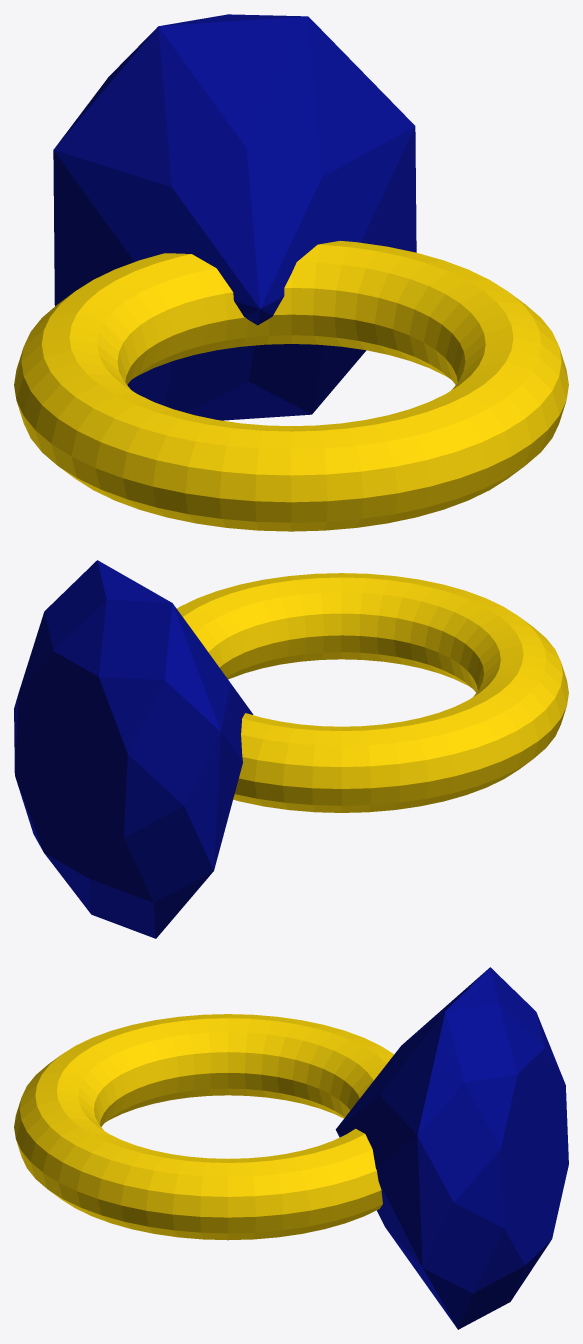
Rendered from BlueJewel.fbx.
The picture shows the model from 3 angles, top to bottom: view 1: azimuth 30°, elevation 25°; view 2: azimuth 150°, elevation 25°; view 3: azimuth 270°, elevation 25°; orthographic projection. The views are drawn at different scales.
Visible parts, largest first — view 1: Torus, Gem; view 2: Gem, Torus; view 3: Torus, Gem.
Boxes of the visible parts, box(x1,y1,x2,y2) form: Torus: box(14, 240, 568, 531); Gem: box(53, 14, 416, 420); Gem: box(14, 560, 253, 938); Torus: box(177, 573, 568, 812); Torus: box(14, 1014, 393, 1240); Gem: box(335, 967, 568, 1329).
Bounding box in the file's own units: 41.25 × 32.6 × 51.96.
